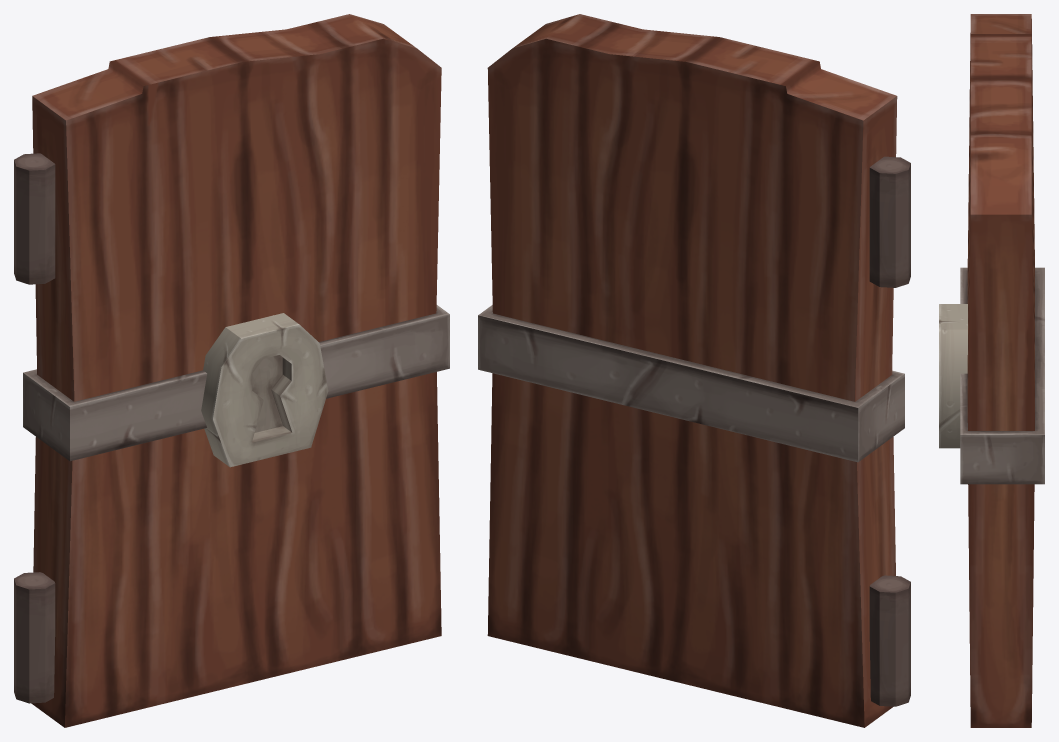
Rendered from puerta.fbx.
3 views of the same model, side by side, from view 1: azimuth 30°, elevation 25°; view 2: azimuth 150°, elevation 25°; view 3: azimuth 270°, elevation 25° (orthographic). The views are drawn at different scales.
Visible parts, largest first — view 1: pCube1, pCube4, pCube3, pCylinder3, pCylinder4; view 2: pCube1, pCube4, pCylinder3, pCylinder4; view 3: pCube1, pCube4, pCube3.
Boxes of the visible parts, x1,y1,x2,y2 form: pCube1: (31, 14, 441, 727); pCube4: (23, 305, 449, 461); pCube3: (201, 313, 328, 467); pCylinder3: (14, 153, 55, 284); pCylinder4: (14, 572, 55, 703); pCube1: (487, 14, 897, 727); pCube4: (478, 305, 904, 462); pCylinder3: (869, 156, 910, 287); pCylinder4: (869, 575, 910, 706); pCube1: (967, 14, 1034, 727); pCube4: (960, 267, 1044, 484); pCube3: (939, 304, 967, 448).
Size of the model in its own units: 11.97 by 17.43 by 2.97.
